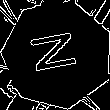N_E: (28, 30, 86, 79)
